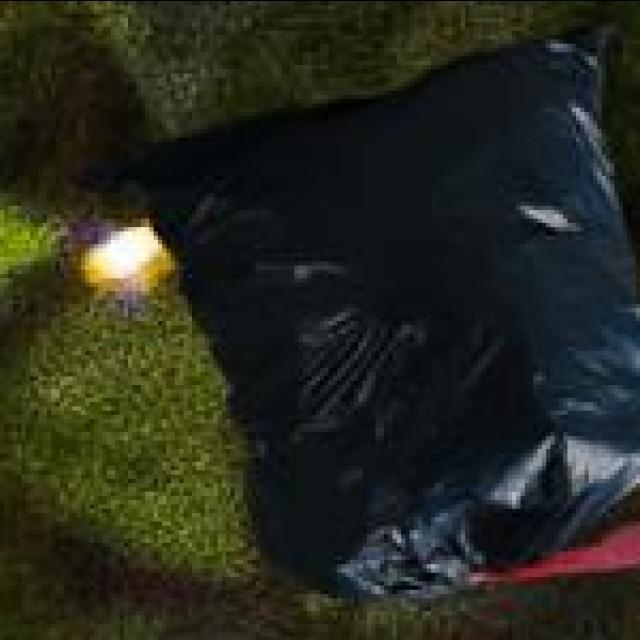Trashbag: (118, 20, 632, 620)
